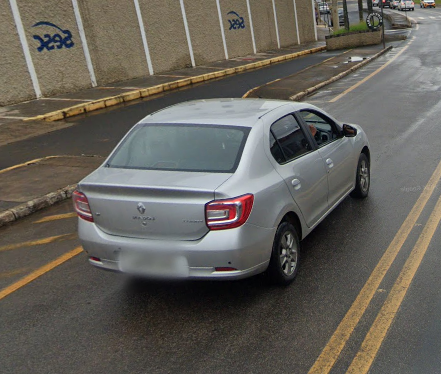car: (68, 88, 380, 292)
